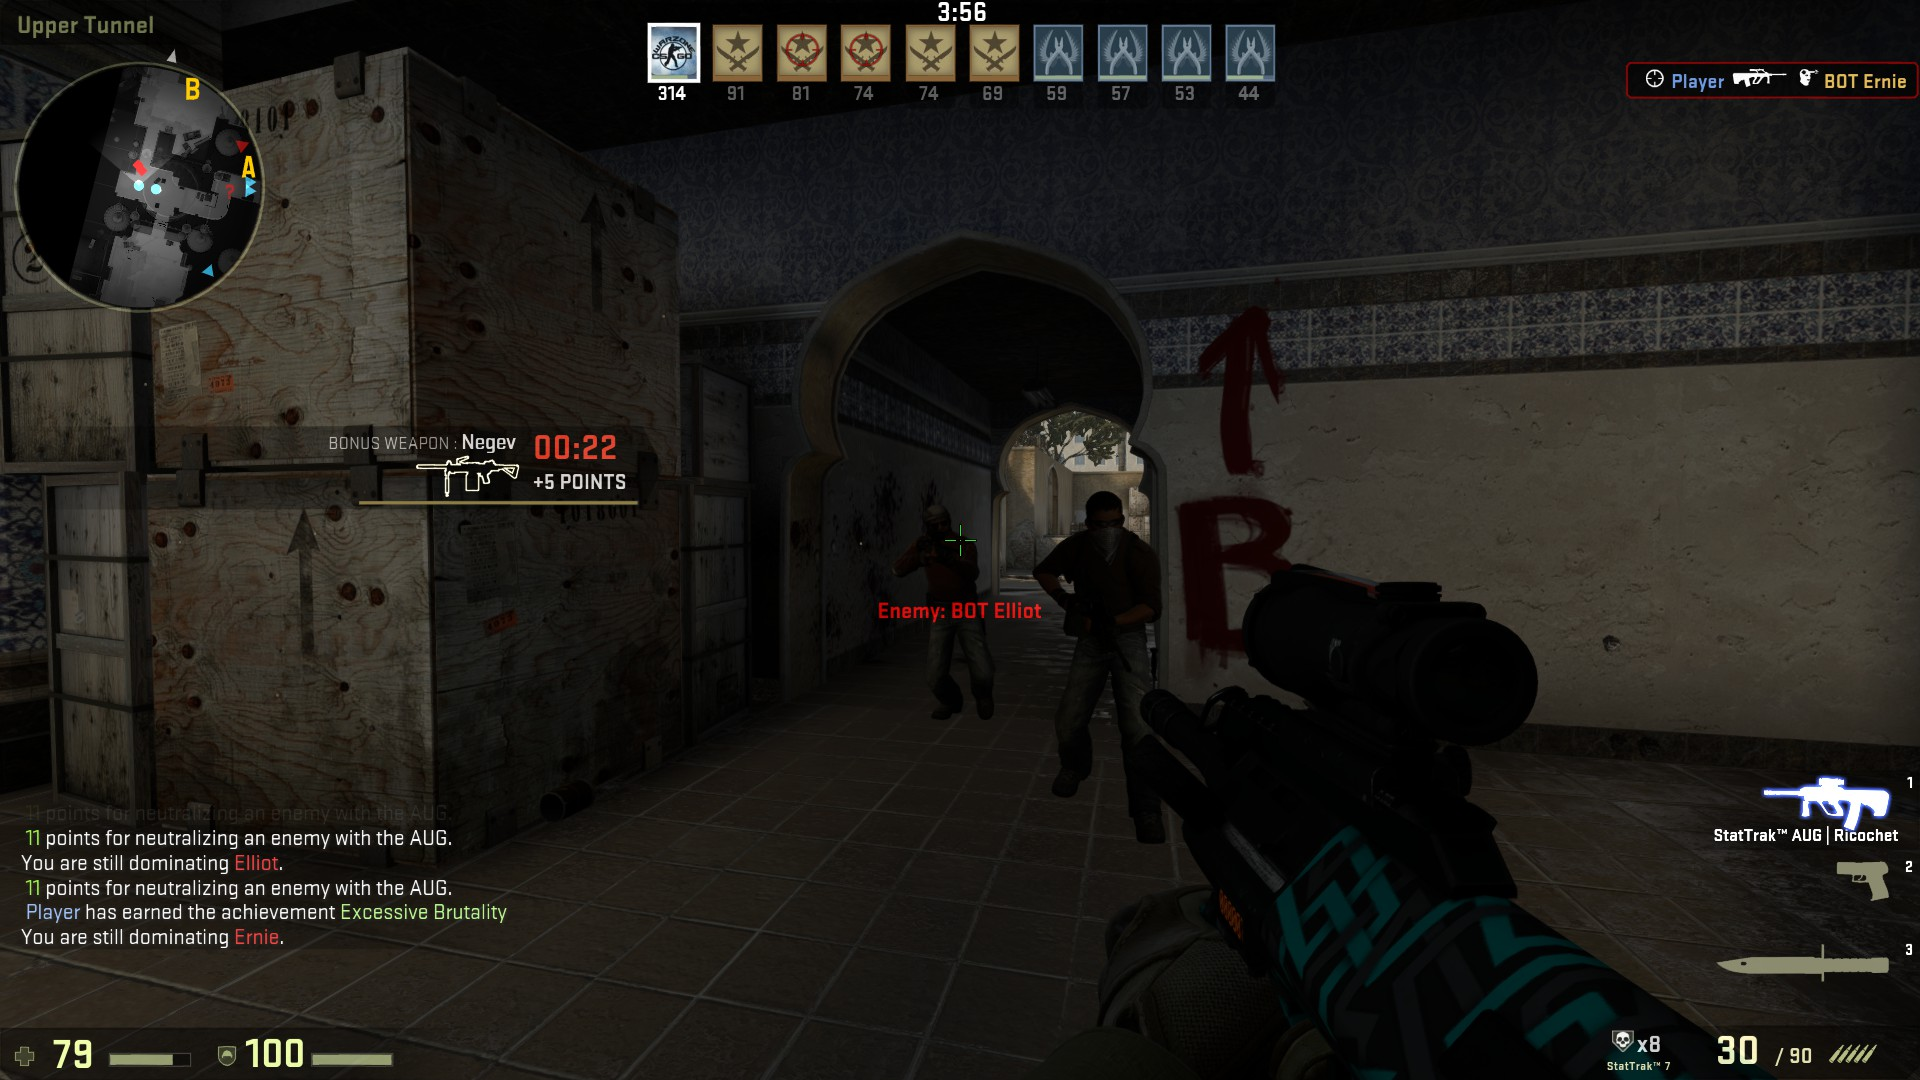t: (1044, 483, 1196, 829), (893, 502, 1015, 733)
th: (1072, 483, 1139, 563), (905, 502, 981, 558)
